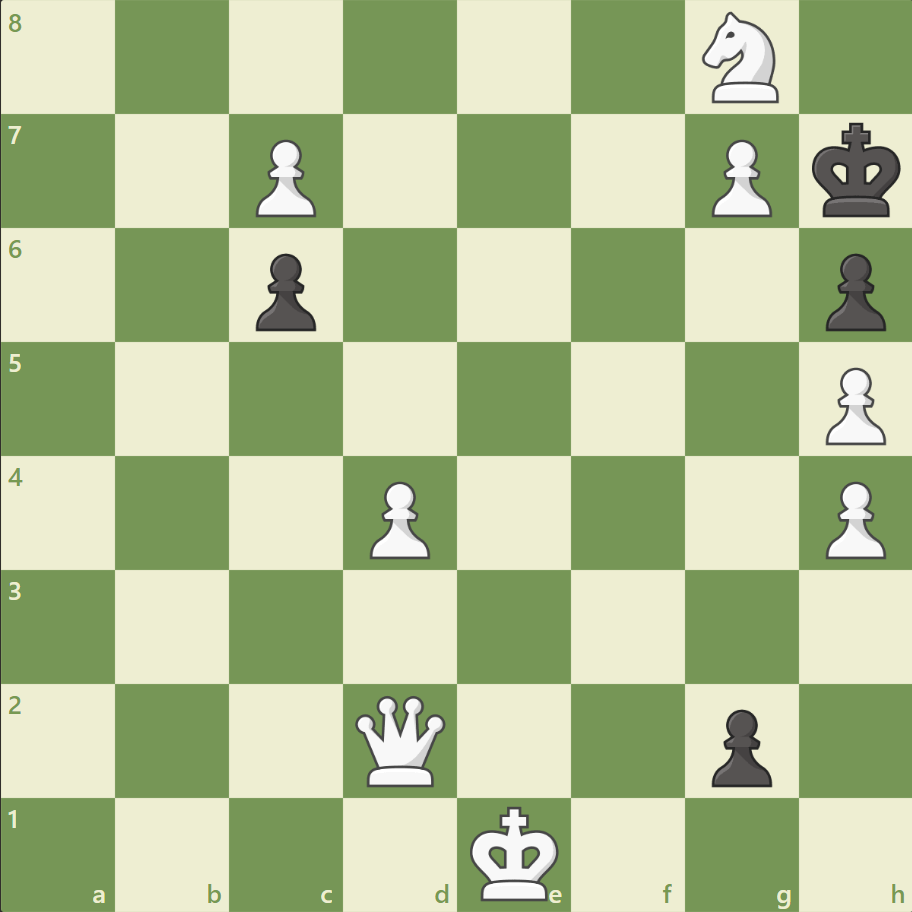K: (465, 798, 565, 906)
N: (692, 7, 789, 110)
P: (247, 132, 322, 223), (701, 132, 776, 223), (815, 359, 889, 450), (361, 473, 435, 564), (815, 473, 889, 564)
Q: (351, 690, 450, 789)
k: (806, 117, 906, 225)
p: (247, 246, 322, 337), (701, 700, 776, 791), (815, 246, 889, 337)
